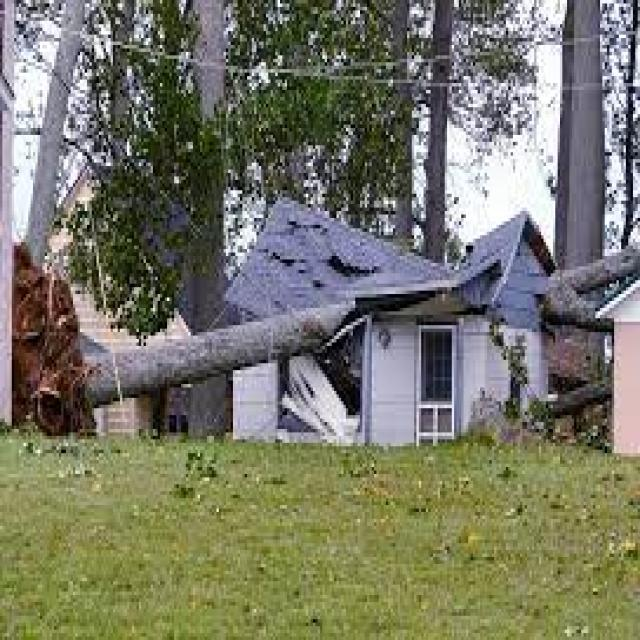Hurricane: (61, 92, 615, 546)
